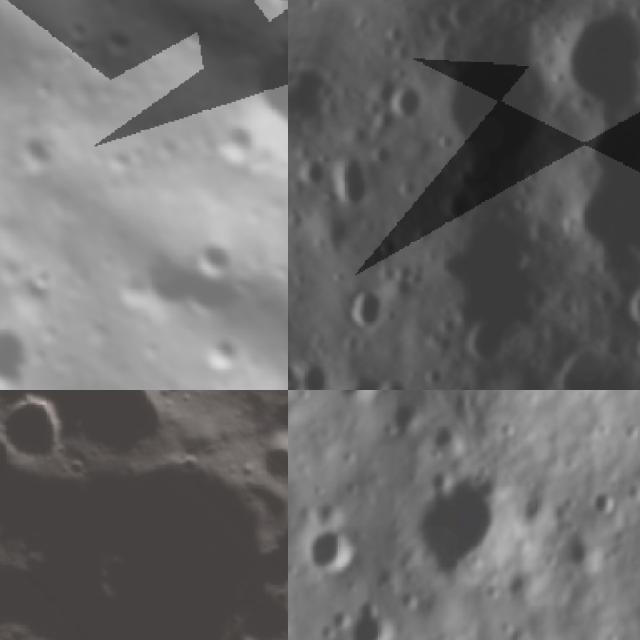crater: (402, 4, 584, 179), (516, 0, 640, 142), (406, 472, 518, 586), (220, 9, 288, 184), (0, 390, 97, 487), (506, 325, 640, 390), (130, 235, 210, 318), (450, 299, 530, 382), (309, 140, 386, 224), (330, 271, 397, 343), (0, 301, 47, 390), (246, 413, 288, 512), (7, 120, 71, 184), (376, 72, 438, 132), (180, 222, 238, 283), (198, 328, 255, 386), (342, 591, 408, 640), (164, 6, 219, 64), (303, 526, 363, 576), (210, 114, 262, 166), (289, 351, 351, 390), (97, 20, 143, 66), (55, 8, 96, 49), (559, 535, 597, 578), (618, 271, 640, 343), (365, 366, 421, 390), (589, 486, 621, 521), (331, 390, 368, 406)
